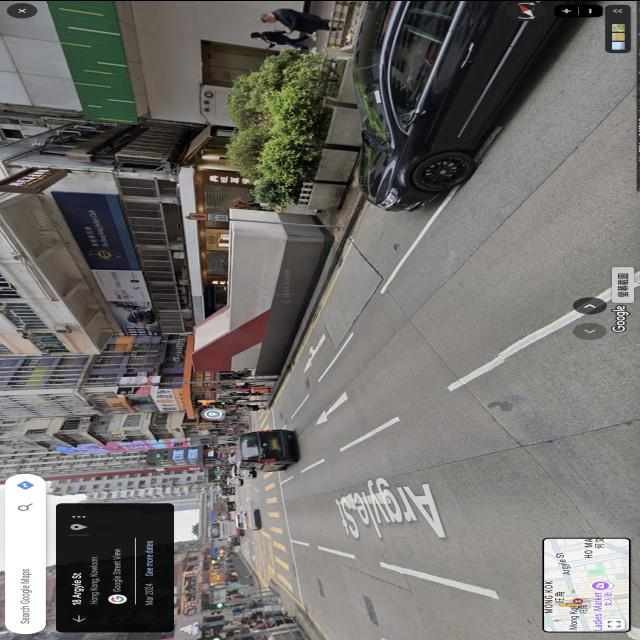Order-Sign: (189, 212, 228, 220), (180, 605, 197, 615)
